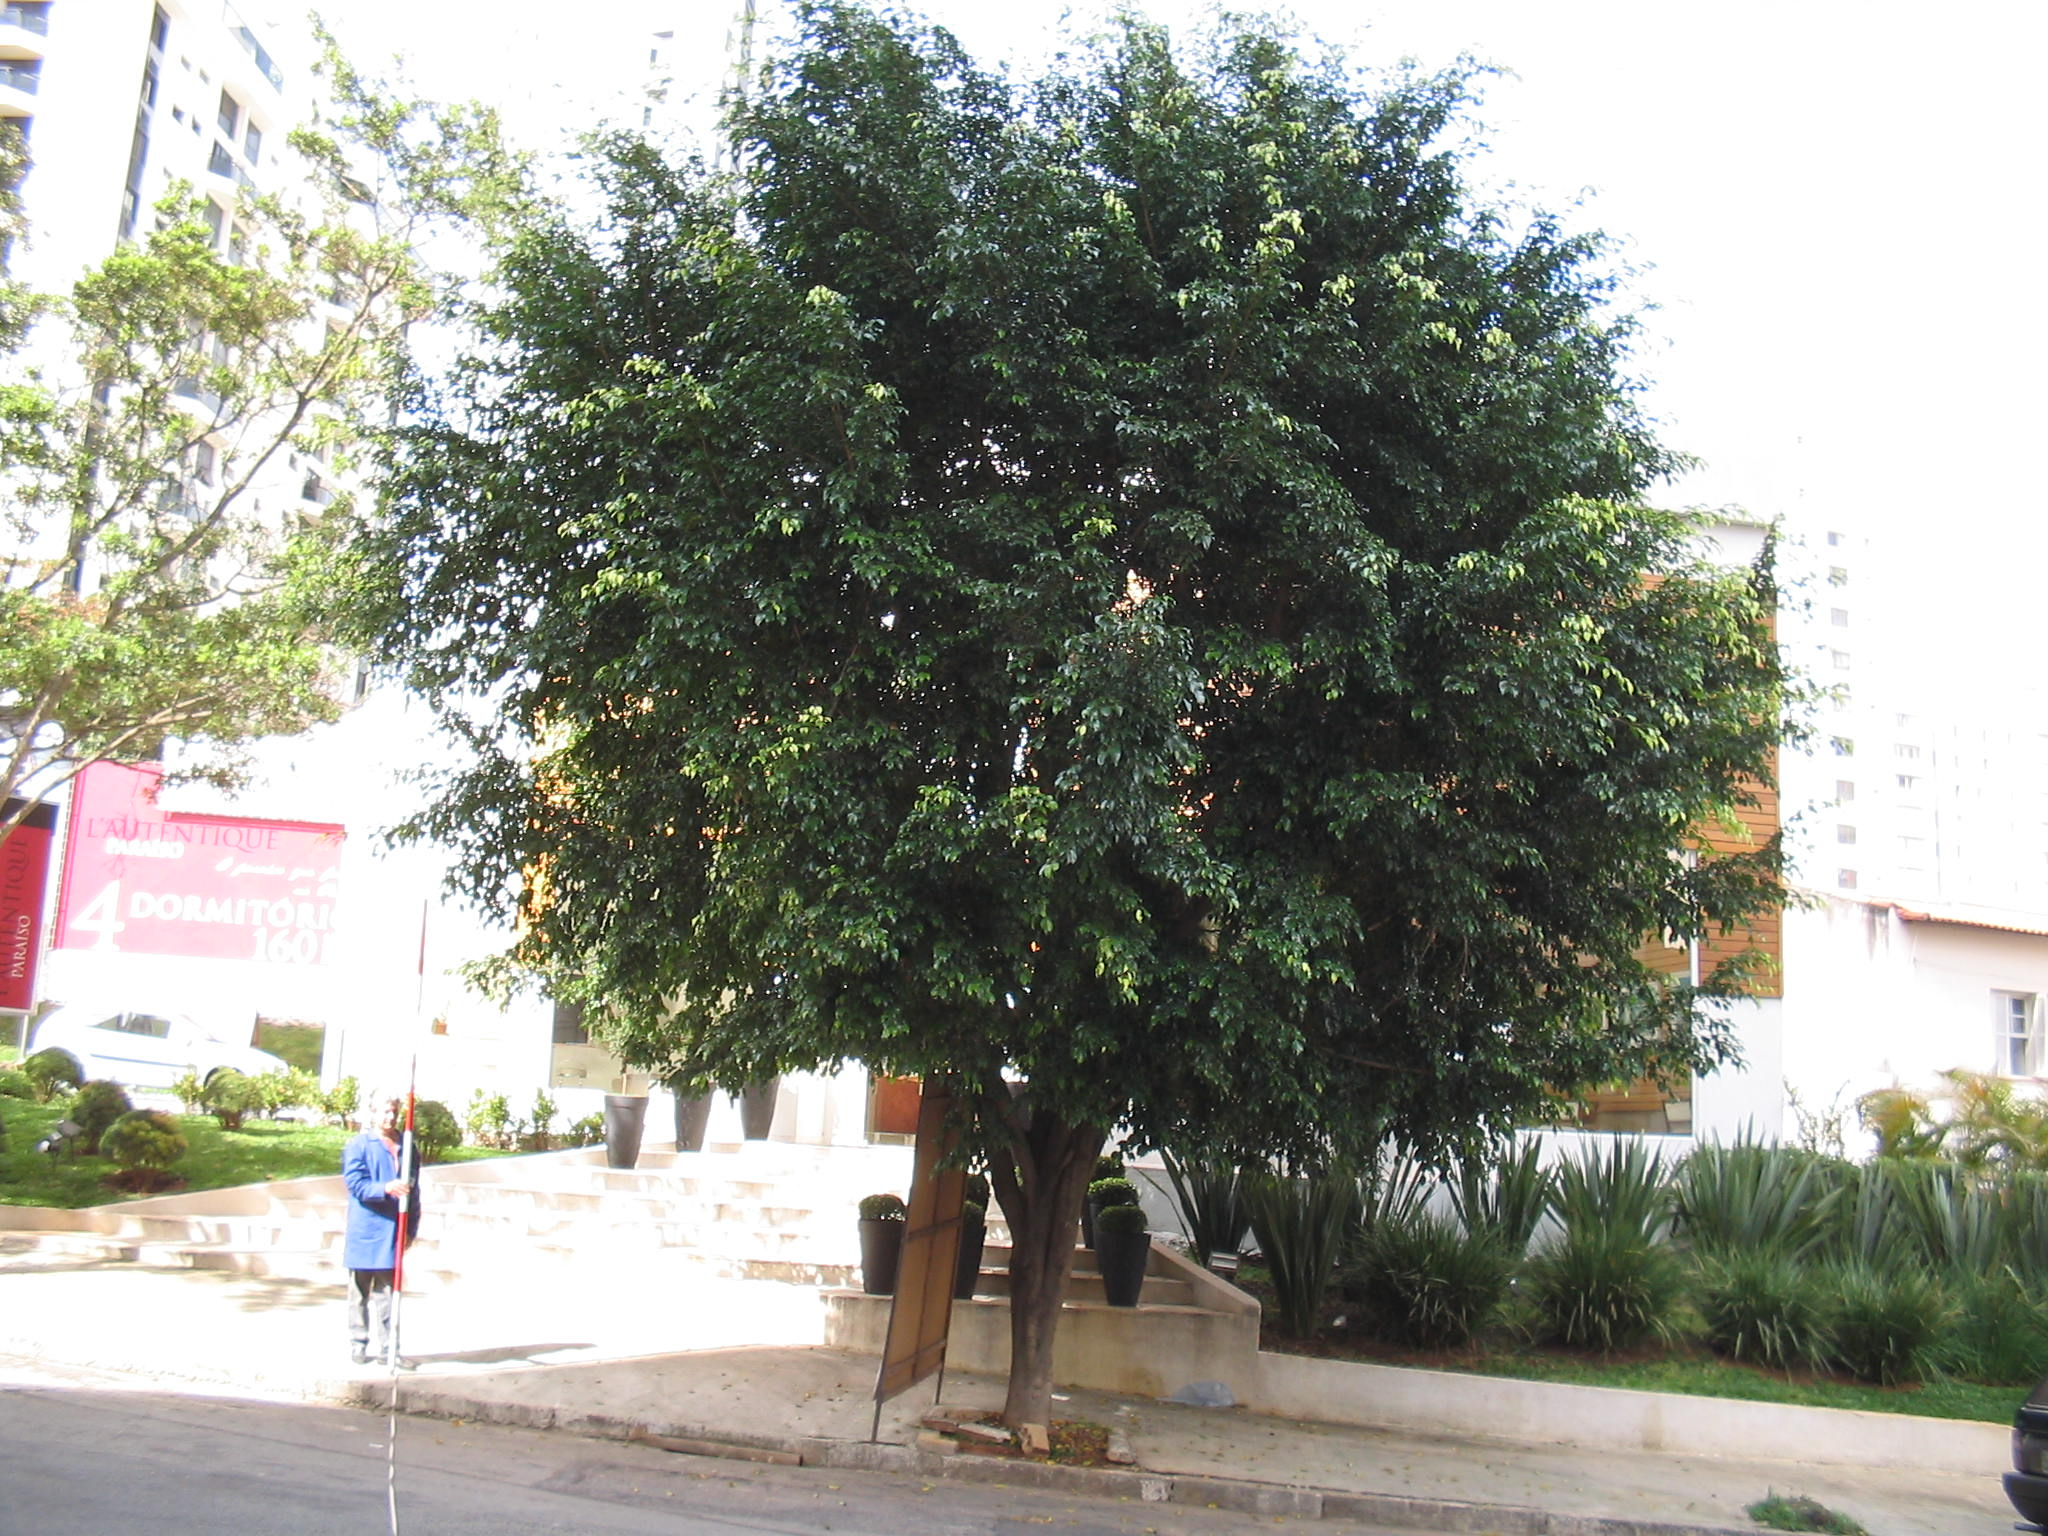crown: (340, 6, 1842, 1162)
stem: (958, 1167, 1129, 1444)
stick: (374, 900, 452, 1373)
tree: (335, 3, 1843, 1447)
